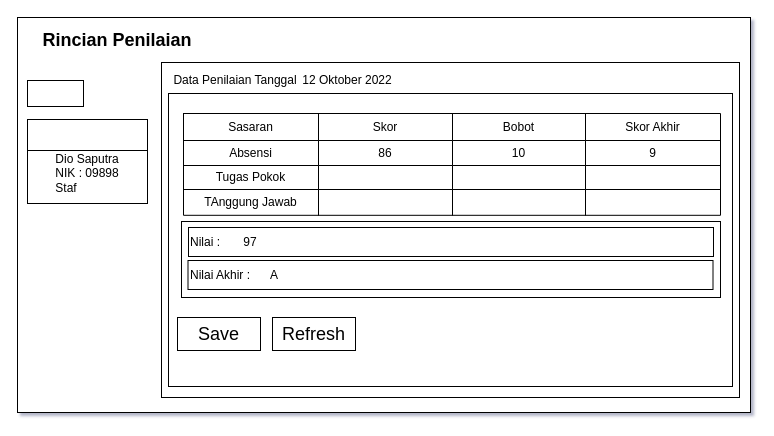
Image size: 774x436. Some labels were removed from this diagram. The shapes that lost their labels are listed below. From the top down, each one's box as (x1, y1, x2, y2) in pixels, then its label:
(26, 80, 84, 106): Back
(26, 118, 148, 150): Data Karyawan
